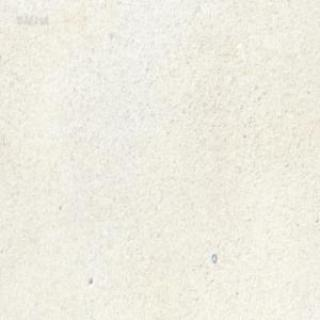Washertrack_idkeyframe: (210, 252, 216, 262)
